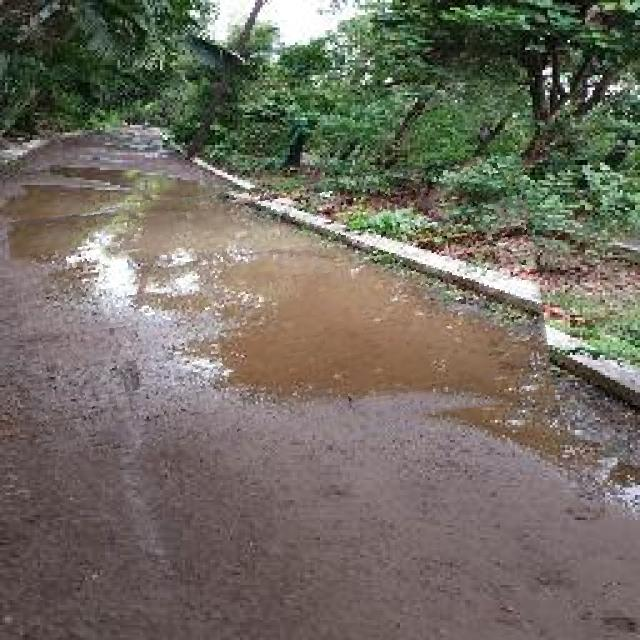puddle: (14, 170, 548, 452)
